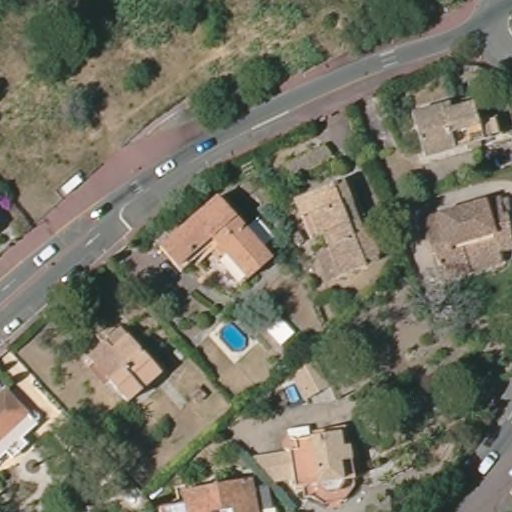pool: (218, 322, 249, 352), (283, 383, 301, 404)
